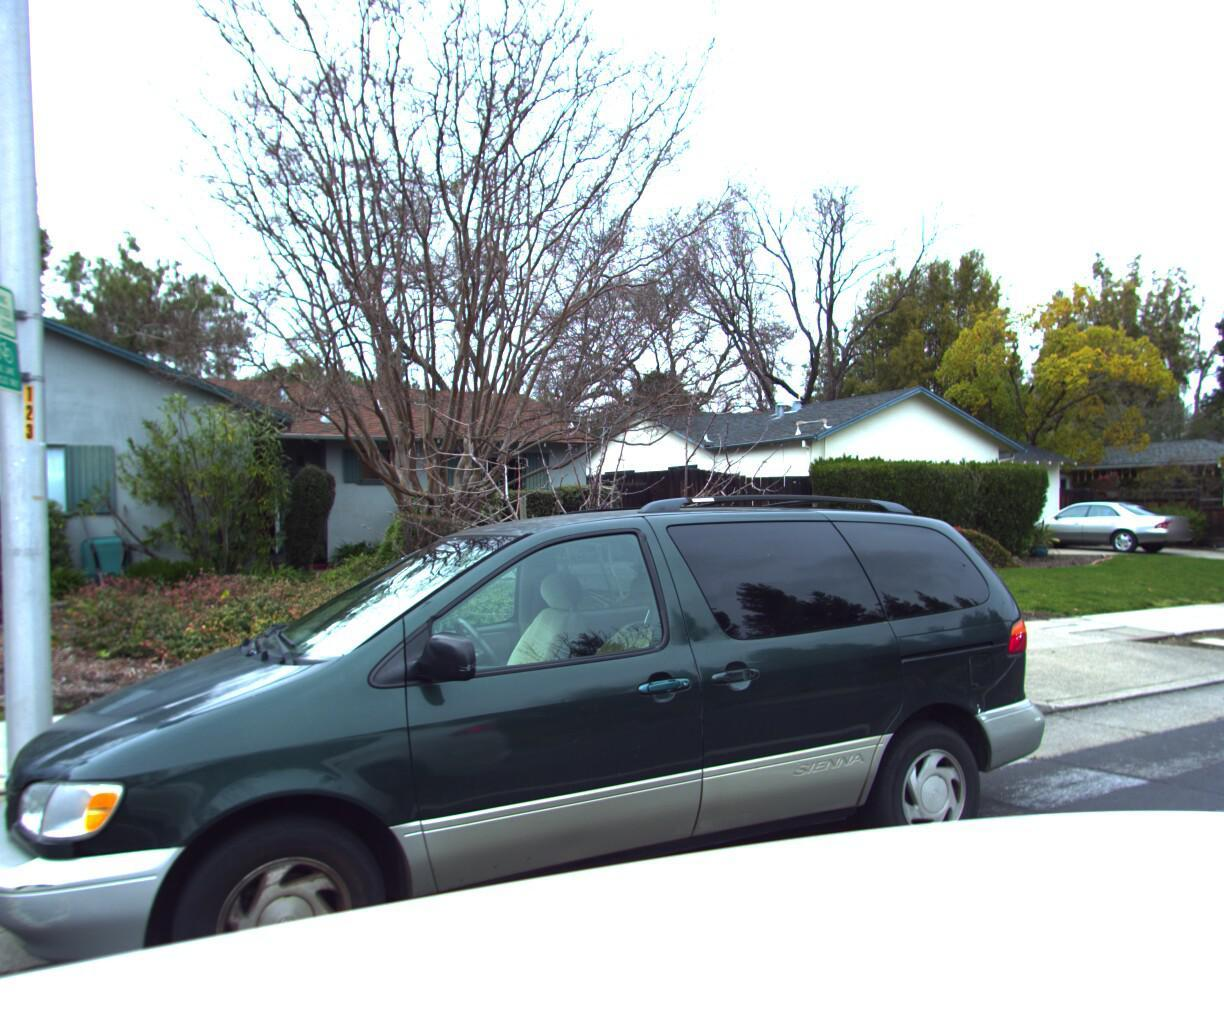car: (0, 484, 1096, 1024), (1011, 501, 1202, 555)
